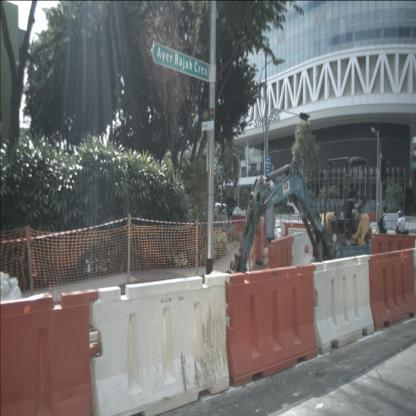human-pedestrian-adult: (378, 205, 389, 262)
movable_object-barrier: (90, 272, 231, 416), (0, 290, 100, 416), (225, 264, 319, 388), (311, 255, 374, 355), (368, 249, 416, 332), (368, 233, 416, 290), (268, 236, 295, 295), (282, 222, 318, 258), (289, 231, 306, 280)
vehicle-car: (216, 206, 248, 230)
vehicle-motorcycle: (392, 210, 412, 248)
